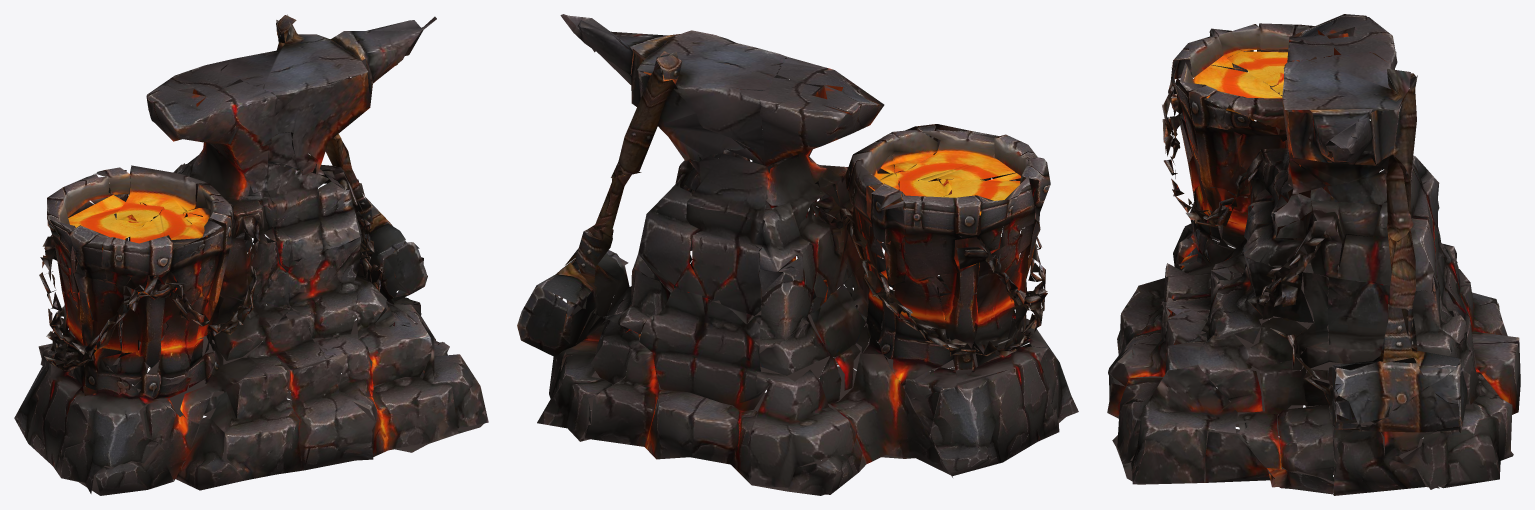
The model's file is LavaForge.fbx.
3 views of the same model, side by side, from view 1: azimuth 30°, elevation 25°; view 2: azimuth 150°, elevation 25°; view 3: azimuth 270°, elevation 25° (orthographic). The views are drawn at different scales.
Visible parts, largest first — view 1: LavaForge_Body; view 2: LavaForge_Body; view 3: LavaForge_Body.
Part boxes in pixels (left/top/right/bottom): LavaForge_Body: left=14, top=14, right=488, bottom=495; LavaForge_Body: left=517, top=14, right=1078, bottom=495; LavaForge_Body: left=1107, top=14, right=1520, bottom=495.
Bounding box in the file's own units: 1.31 × 1 × 1.
Materials: 1 (1 with a texture image).
